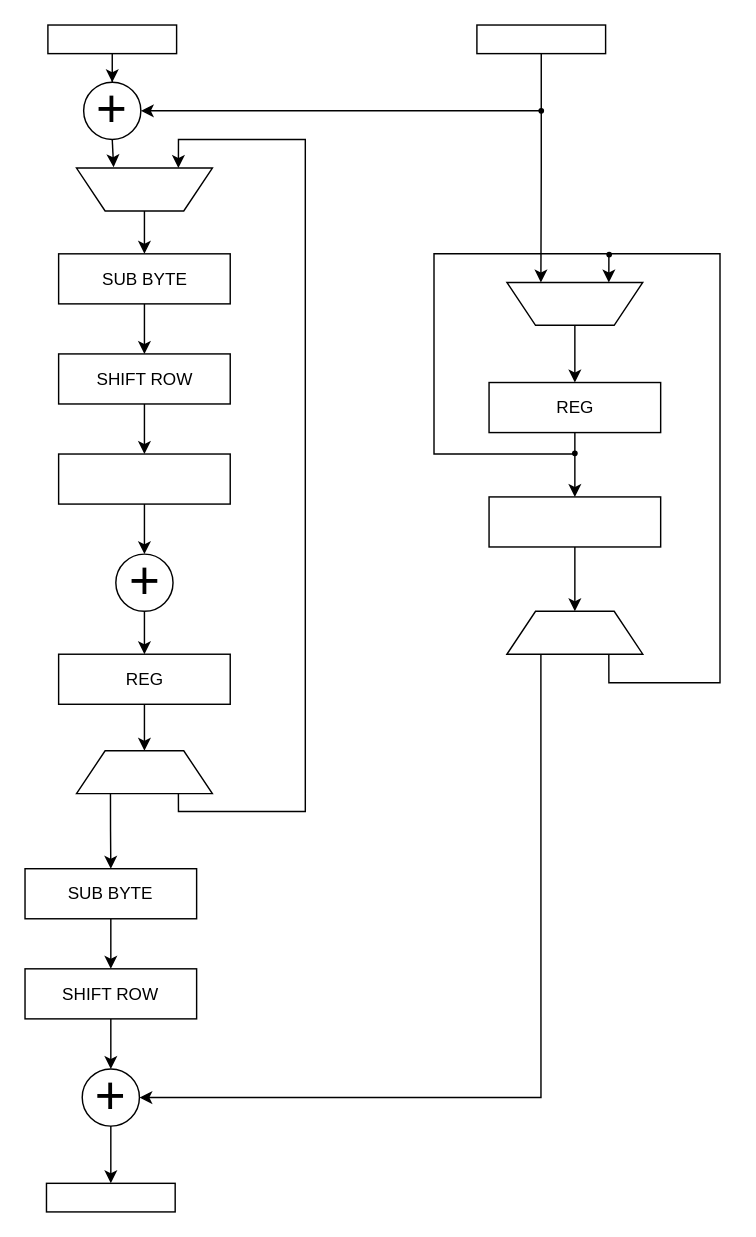
The diagram is 756 pixels wide and 1237 high, and some of its shapes have lost their labels. The centre of each missing label's shape, as x and y in pixels:
"CIPHER TEXT" belongs at (x=110, y=1197).
"KEY" belongs at (x=540, y=39).
"KEY EXPANSION" belongs at (x=574, y=521).
"MIX COLUMN" belongs at (x=143, y=478).
"PLAIN TEXT" belongs at (x=111, y=39).
